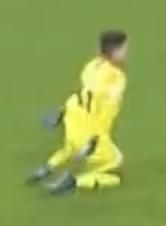goalkeeper: (9, 20, 152, 205)
